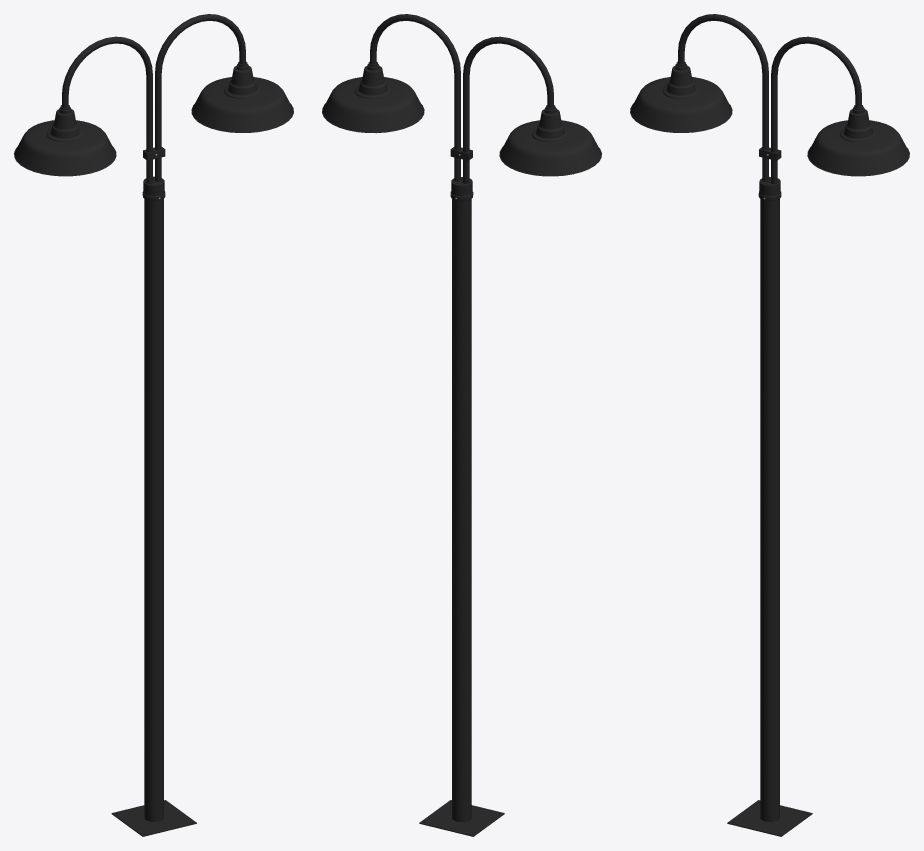
Rendered from уличная лампа.glb.
3 renders of one model, left to right at view 1: azimuth 30°, elevation 25°; view 2: azimuth 150°, elevation 25°; view 3: azimuth 330°, elevation 25°, orthographic.
Visible parts, largest first — view 1: Street_Lamp; view 2: Street_Lamp; view 3: Street_Lamp.
Part boxes in pixels (box(x1,y1,x2,y2)): Street_Lamp: box(14, 14, 293, 836); Street_Lamp: box(322, 14, 601, 836); Street_Lamp: box(630, 14, 909, 836).
Size of the model in its own units: 1.14 by 3.23 by 0.3804.
1 material, 1 textured.
